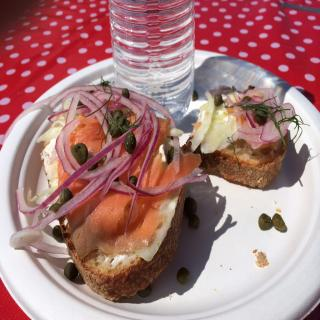Bread: (39, 130, 188, 301), (181, 86, 290, 192)
Salad: (1, 85, 209, 280), (187, 85, 311, 155)
